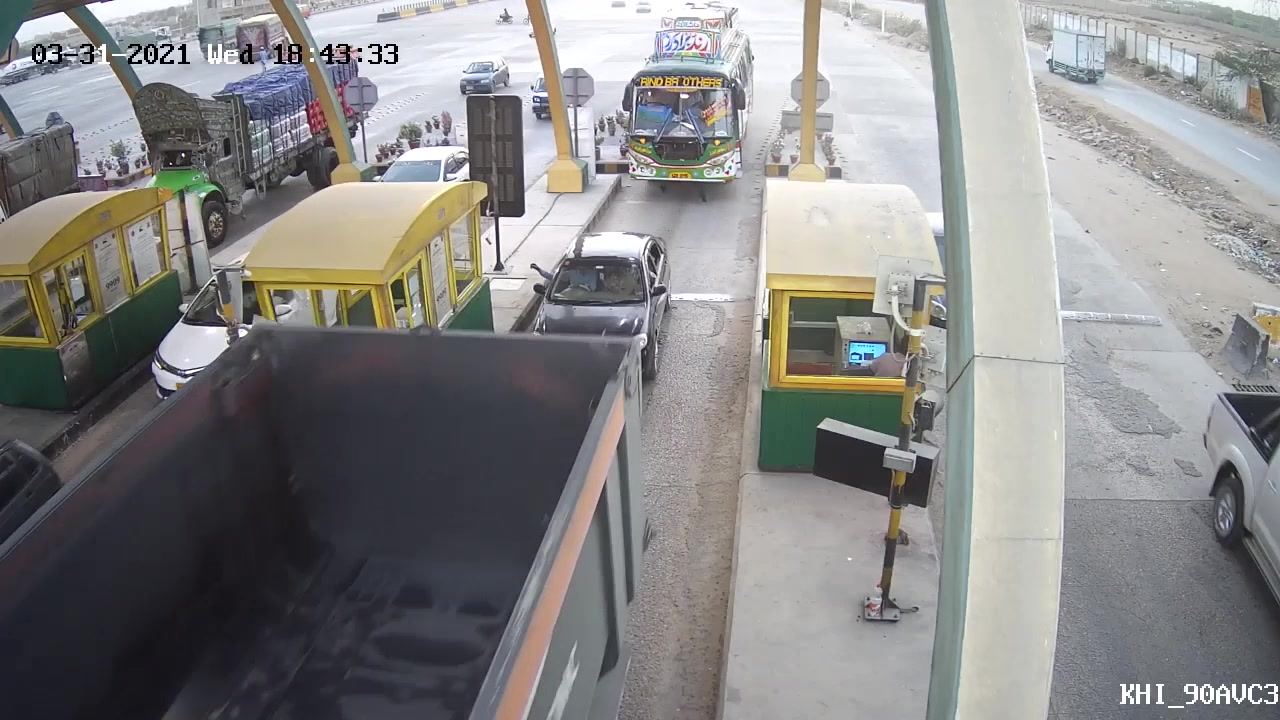F4: (612, 9, 761, 196)
